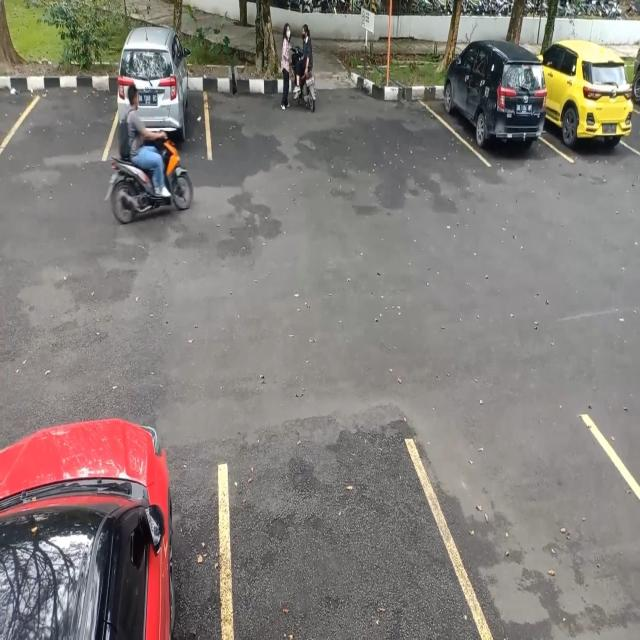empty: (219, 430, 493, 640), (411, 408, 640, 637), (13, 69, 114, 167)
occupied: (113, 44, 211, 159), (442, 63, 548, 168), (549, 47, 640, 165)
